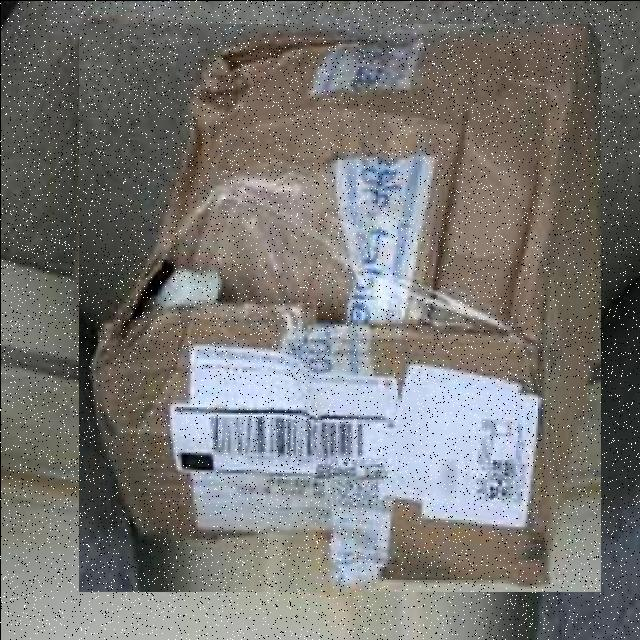defect: (78, 23, 600, 591)
